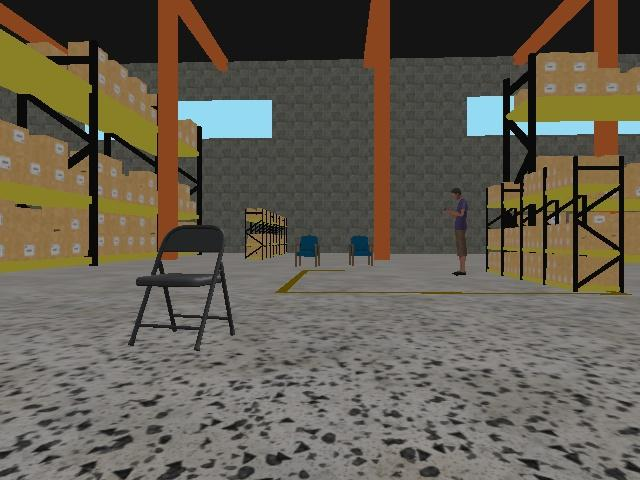chair: (128, 224, 236, 351), (295, 235, 323, 267), (347, 236, 376, 266)
person: (444, 188, 468, 277)
